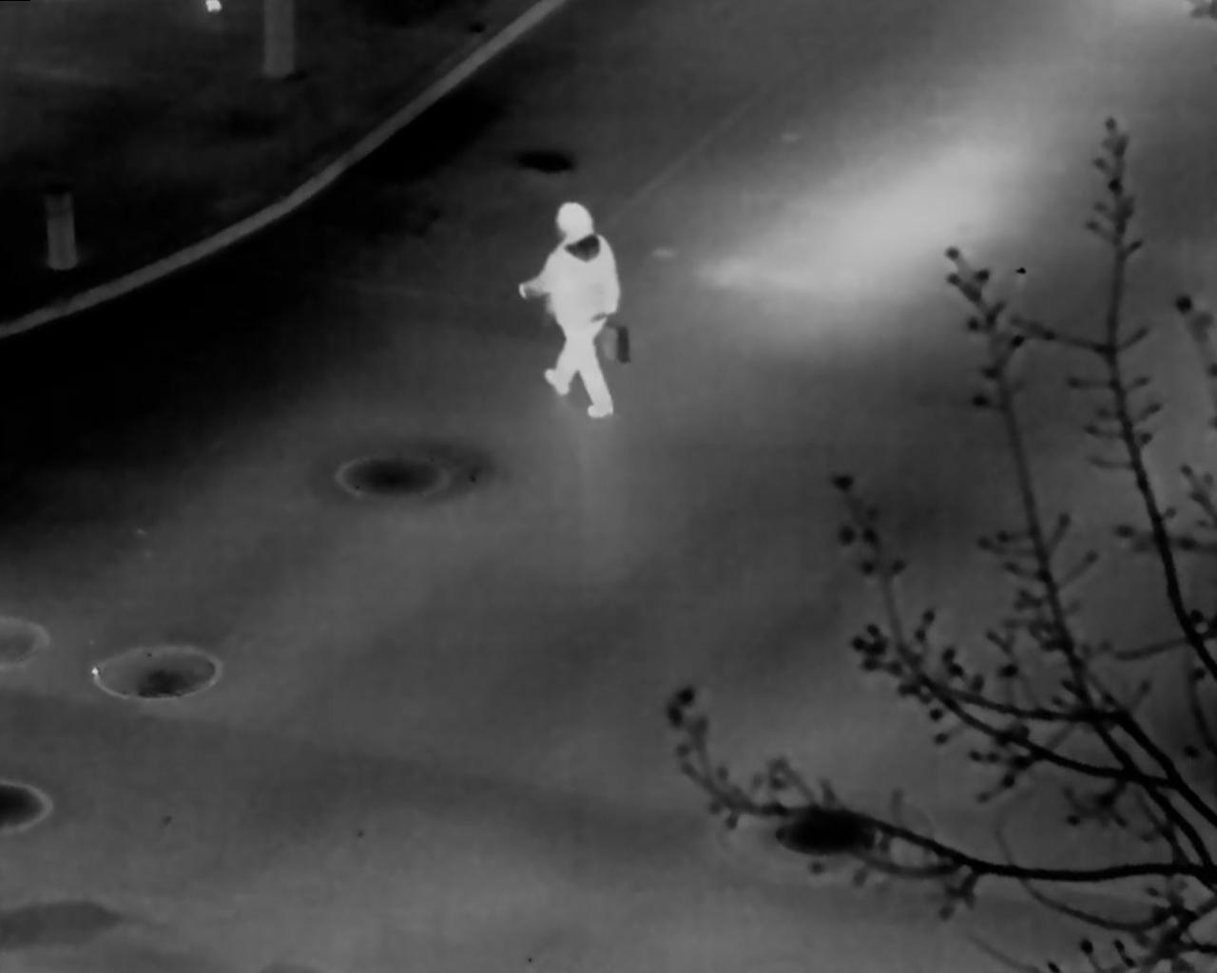person: (517, 201, 622, 418)
